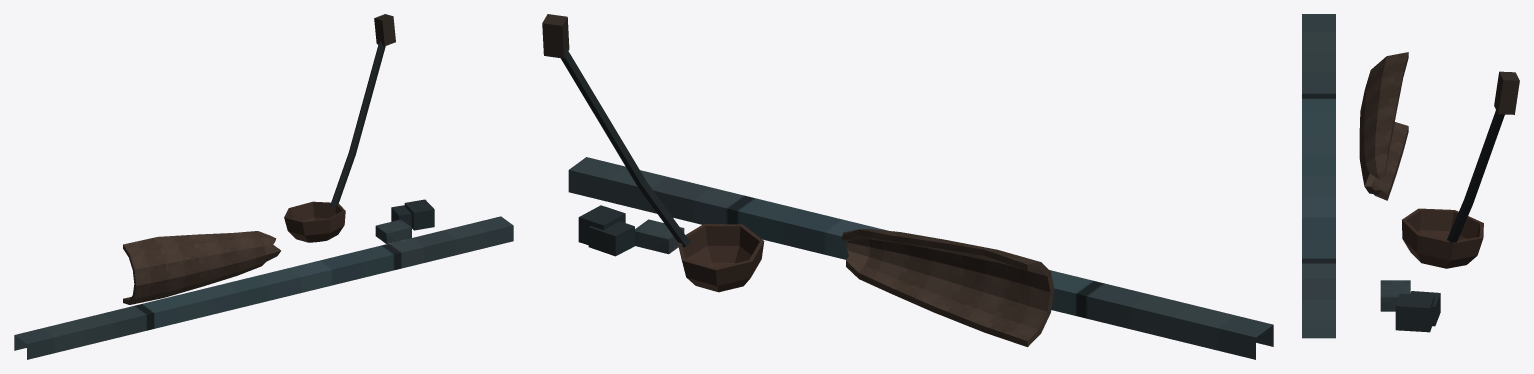
Rendered from T1_Lane_Mid_C.fbx.
3 views of the same model, side by side, from view 1: azimuth 30°, elevation 25°; view 2: azimuth 150°, elevation 25°; view 3: azimuth 270°, elevation 25° (orthographic). The views are drawn at different scales.
Parts seen in each view (by area): view 1: T1_Lane_Mid_C; view 2: T1_Lane_Mid_C; view 3: T1_Lane_Mid_C.
Boxes of the visible parts, bbox=[...] form: T1_Lane_Mid_C: bbox=[14, 14, 513, 359]; T1_Lane_Mid_C: bbox=[542, 14, 1273, 359]; T1_Lane_Mid_C: bbox=[1302, 14, 1519, 338].
Size of the model in its own units: 4.5 by 1.65 by 1.28.
